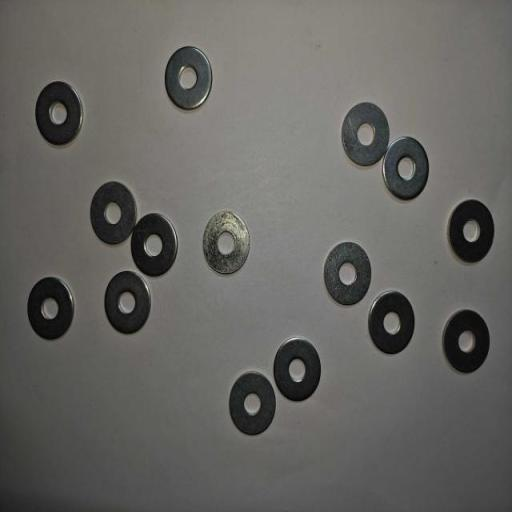washer: (442, 308, 490, 374), (26, 276, 74, 342), (90, 180, 138, 246), (164, 46, 213, 110), (341, 102, 390, 166), (35, 81, 83, 146), (323, 241, 371, 306), (273, 337, 321, 402), (130, 214, 178, 278), (368, 290, 415, 355), (229, 371, 276, 436), (104, 270, 151, 335), (382, 136, 428, 202), (448, 198, 494, 264), (202, 211, 250, 274)
